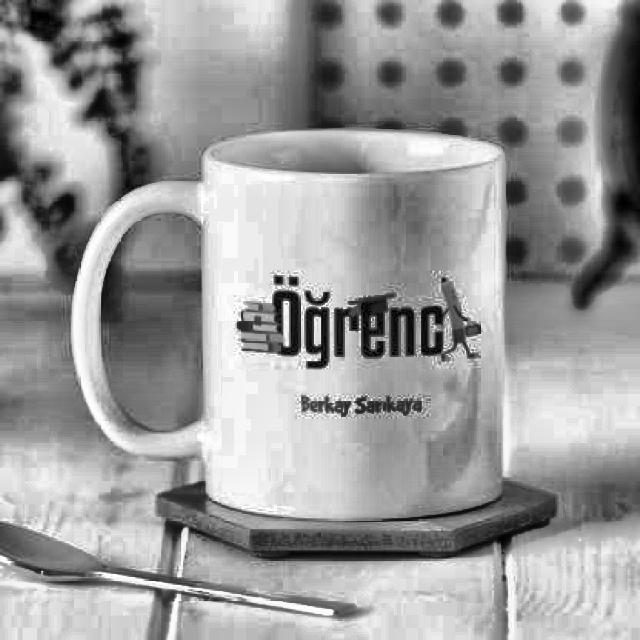Mug: (69, 125, 508, 523)
